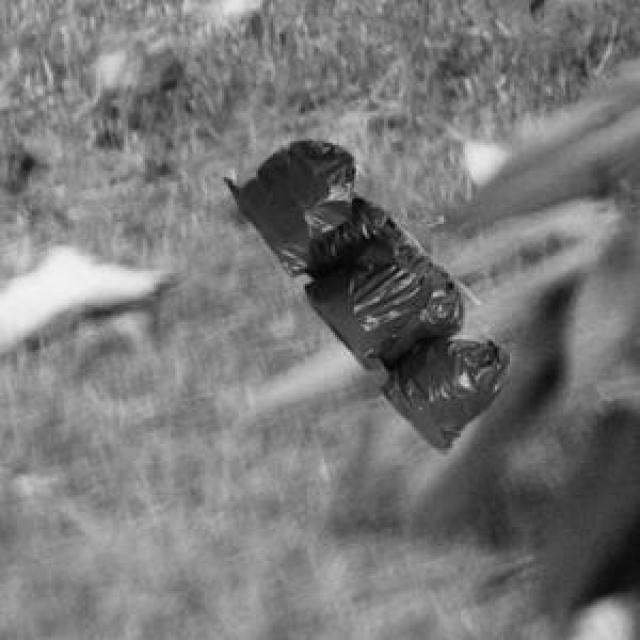miscellaneous trash: (221, 137, 506, 450)
